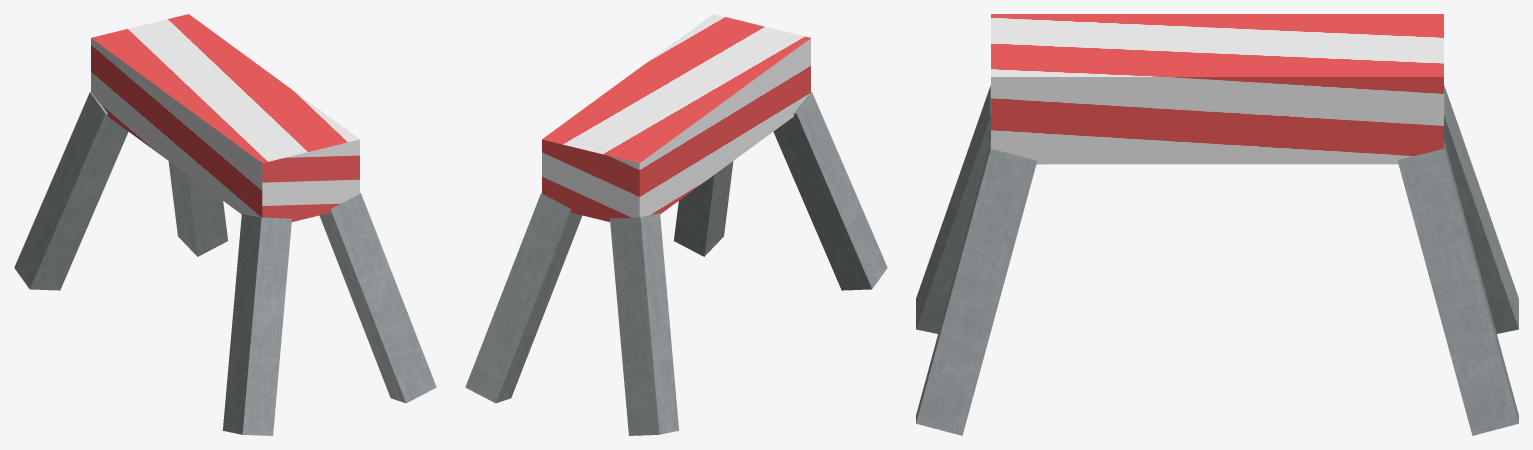
File: roadBlock.fbx
The picture shows the model from 3 angles, left to right: view 1: azimuth 30°, elevation 25°; view 2: azimuth 150°, elevation 25°; view 3: azimuth 270°, elevation 25°; orthographic projection. The views are drawn at different scales.
Parts seen in each view (by area): view 1: Cube.004, Cube.003, Cube.002, Cube.001, Cube; view 2: Cube.004, Cube.001, Cube, Cube.003, Cube.002; view 3: Cube.004, Cube, Cube.002, Cube.001, Cube.003.
Part boxes in pixels (<box>): Cube.004: <box>91,14,359,221</box>; Cube.003: <box>223,213,291,435</box>; Cube.002: <box>319,193,436,403</box>; Cube.001: <box>14,92,128,290</box>; Cube: <box>168,161,227,256</box>; Cube.004: <box>542,14,810,221</box>; Cube.001: <box>610,213,678,435</box>; Cube: <box>465,193,582,403</box>; Cube.003: <box>773,92,887,290</box>; Cube.002: <box>674,161,733,256</box>; Cube.004: <box>991,14,1443,164</box>; Cube: <box>1397,140,1518,435</box>; Cube.002: <box>916,140,1037,435</box>; Cube.001: <box>1444,85,1518,333</box>; Cube.003: <box>916,85,990,333</box>.
Bounding box in the file's own units: 251 × 310 × 501.
